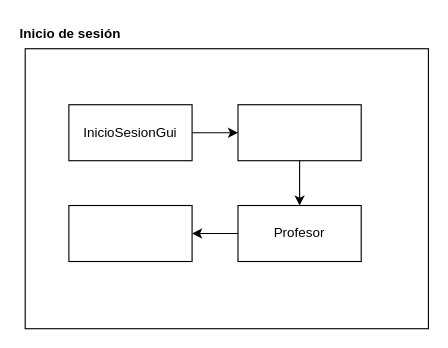
This 448x348 diagram has some shape labels left out. The box of each missing label's shape, as (x1, y1, x2, y2) in pixels:
ArchivoPersistencia: (237, 104, 361, 161)
Estudiante: (68, 204, 192, 262)
